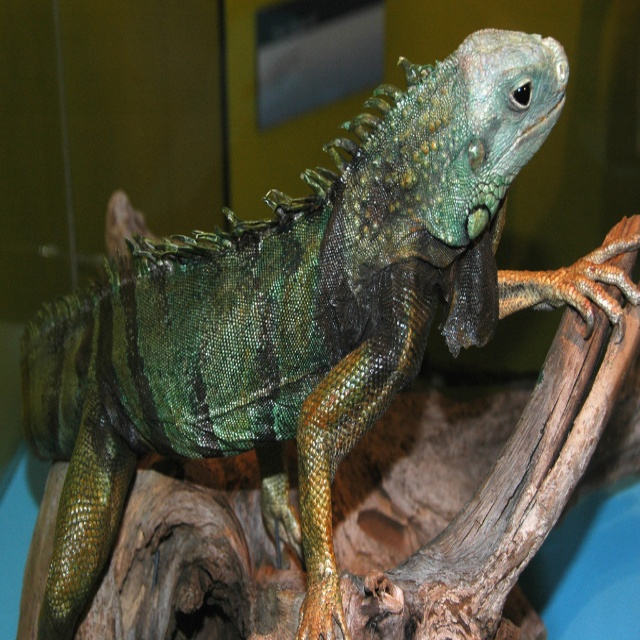Lizard: (20, 28, 640, 640)
